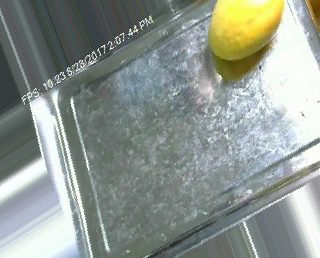Mango: (204, 0, 286, 68)
